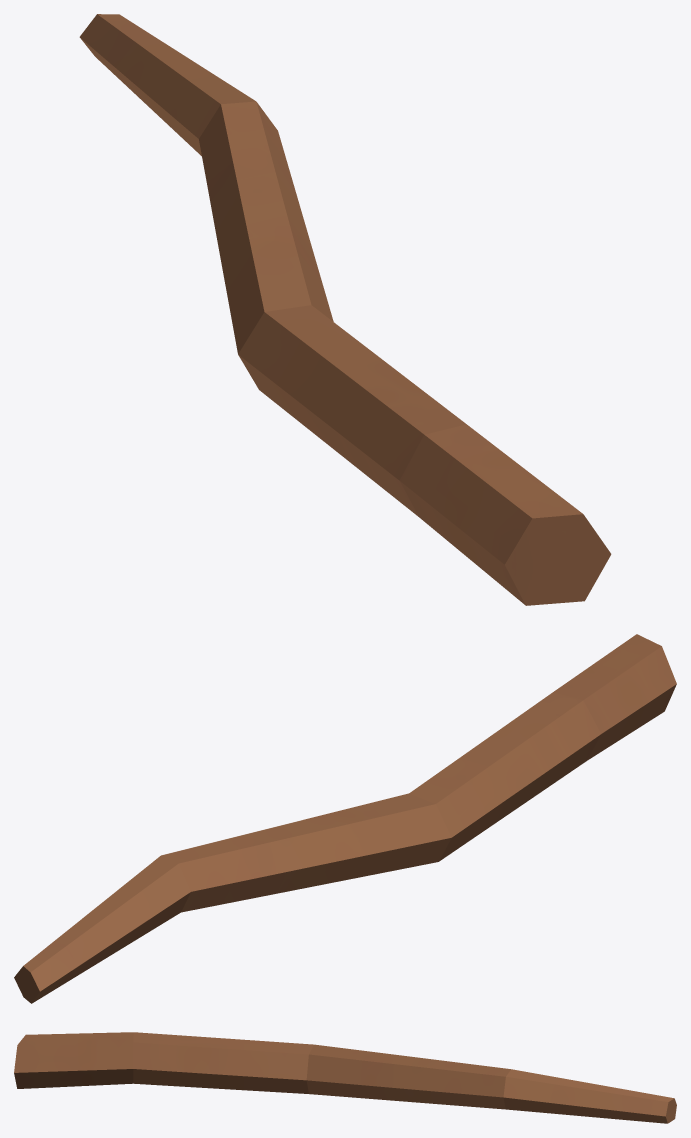
Rendered from Tree_Branch_02.fbx.
3 renders of one model, top to bottom at view 1: azimuth 30°, elevation 25°; view 2: azimuth 150°, elevation 25°; view 3: azimuth 270°, elevation 25°, orthographic. The views are drawn at different scales.
Visible parts, largest first — view 1: Tree_Branch_02; view 2: Tree_Branch_02; view 3: Tree_Branch_02.
Boxes of the visible parts, x1,y1,x2,y2 form: Tree_Branch_02: [79, 14, 611, 605]; Tree_Branch_02: [14, 634, 676, 1003]; Tree_Branch_02: [14, 1032, 676, 1123].
Size of the model in its own units: 22.21 by 8.17 by 94.46.
